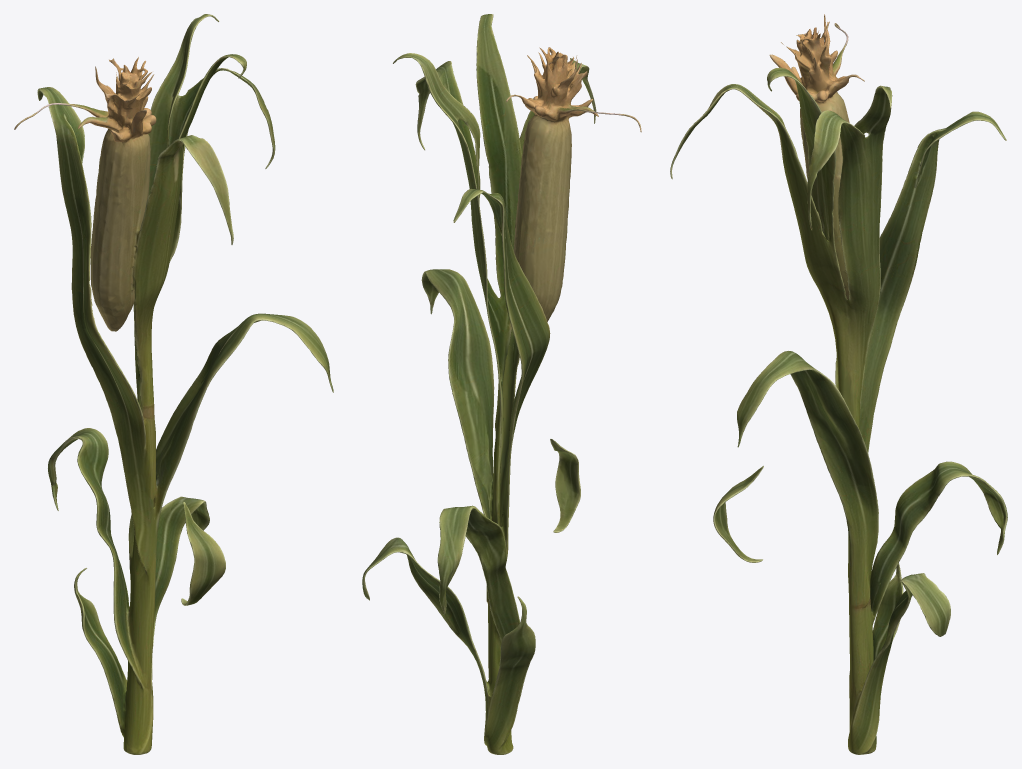
File: corn-a.glb
3 views of the same model, side by side, from view 1: azimuth 30°, elevation 25°; view 2: azimuth 150°, elevation 25°; view 3: azimuth 270°, elevation 25° (orthographic). The views are drawn at different scales.
Visible parts, largest first — view 1: Mesh_0; view 2: Mesh_0; view 3: Mesh_0.
Boxes of the visible parts, x1=… form: Mesh_0: x1=14, y1=14, x2=333, y2=754; Mesh_0: x1=362, y1=14, x2=641, y2=754; Mesh_0: x1=670, y1=14, x2=1007, y2=754.
Bounding box in the file's own units: 0.393 × 1 × 0.4316.
1 material, 1 textured.
